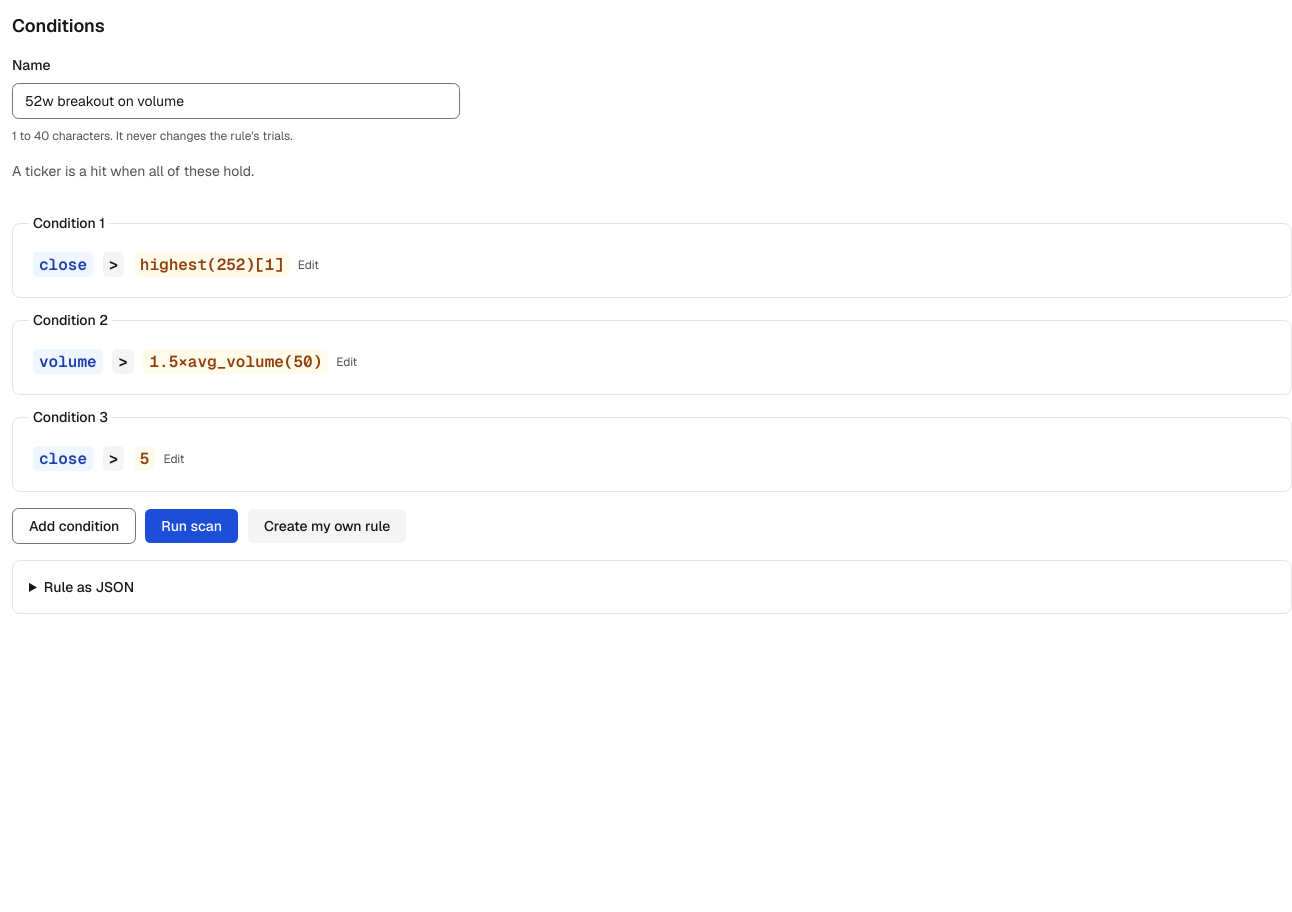
it: RuleBuilder › shows a 422 about the row count above the rows (AC-7)
Step 1. Click the button "Run scan" → (192, 526), box left=144, top=508, right=239, bottom=544
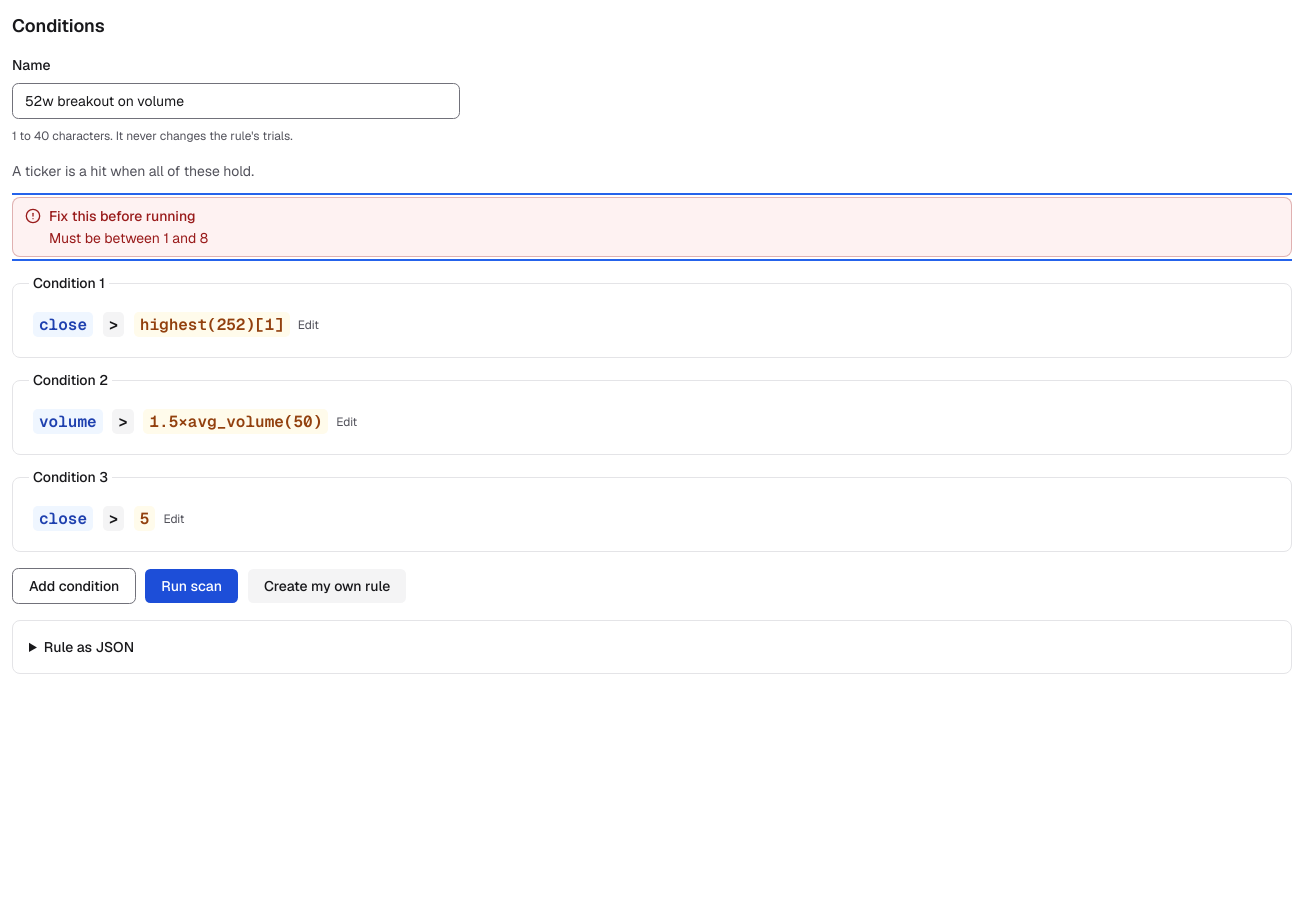
Expected: the text "Must be between 1 and 8" is shown, left=49, top=229, right=208, bottom=247
